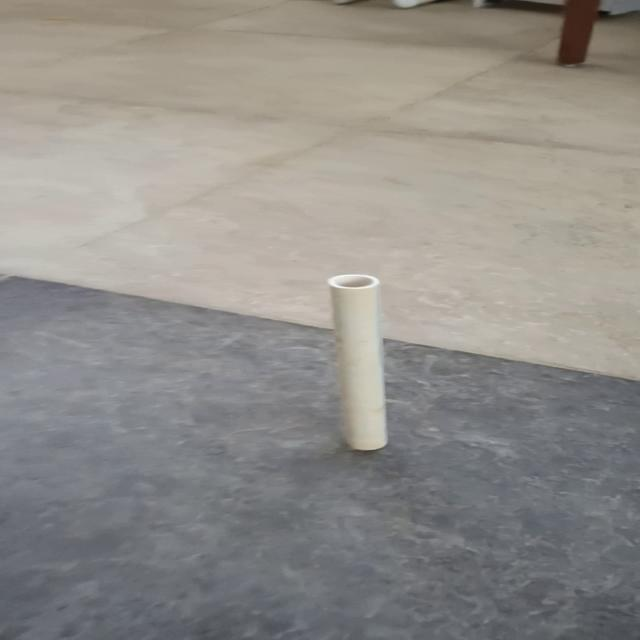Cube: (326, 273, 390, 451)
